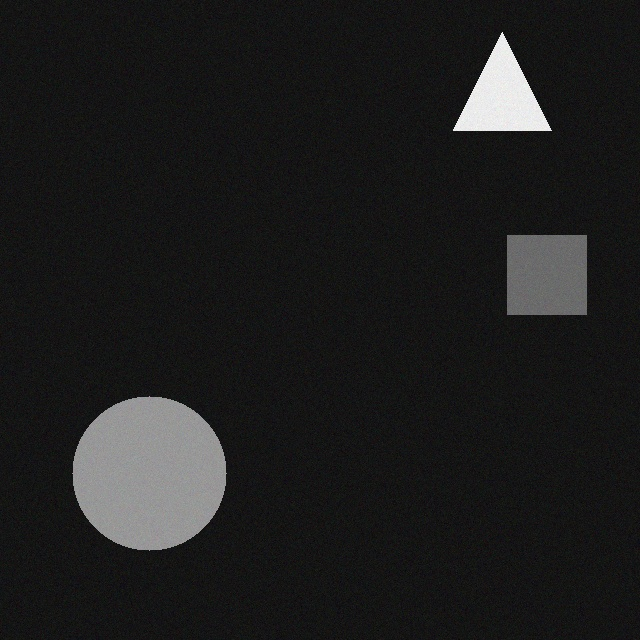circle: (58, 390, 212, 544)
square: (493, 229, 572, 308)
triangle: (439, 26, 537, 124)
